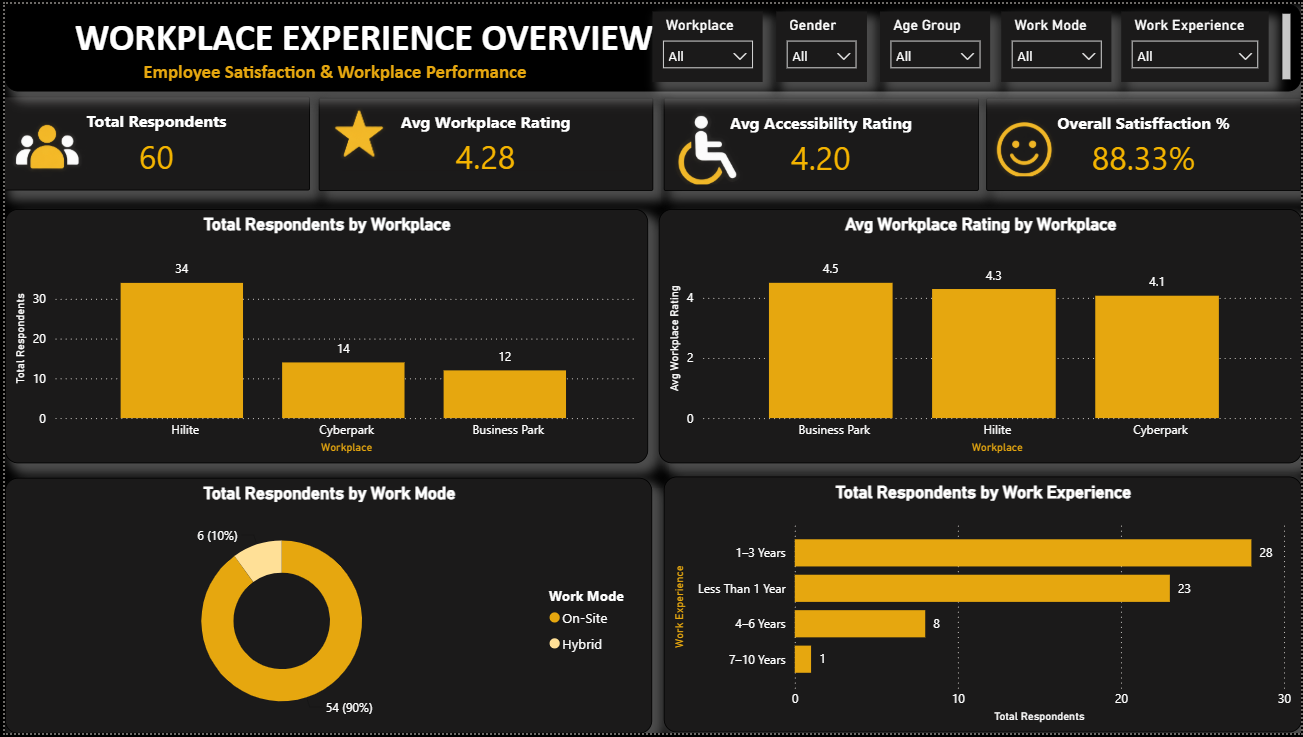

The page's visual inventory and layout, read from the dashboard file:
{"tool":"powerbi","page":{"name":"Workplace Overiew","canvas":[1280,720],"ordinal":0},"visuals":[{"type":"cardVisual","fields":{"Data":["Raw Data.Total Respondents"]},"box":[-1.2,91.7,302,92.9],"z":0},{"type":"cardVisual","fields":{"Data":["Raw Data.Avg Workplace Rating"]},"box":[309.4,92.9,330.2,91.7],"z":1000},{"type":"cardVisual","fields":{"Data":["Raw Data.Avg Accessibility Rating"]},"box":[650,92.4,311,92.3],"z":2000},{"type":"cardVisual","fields":{"Data":["Raw Data.Overall Satisffaction %"]},"box":[969.7,92.4,311,92],"z":3000},{"type":"clusteredColumnChart","fields":{"Category":["Raw Data.Workplace"],"Y":["Raw Data.Total Respondents"]},"box":[0,203,635,251.5],"z":4000},{"type":"clusteredColumnChart","fields":{"Category":["Raw Data.Workplace"],"Y":["Raw Data.Avg Workplace Rating"]},"box":[645.5,203,634.8,251.5],"z":5000},{"type":"donutChart","fields":{"Category":["Raw Data.Work Mode"],"Y":["Raw Data.Total Respondents"]},"box":[0,468.2,639.4,253],"z":6000},{"type":"barChart","fields":{"Category":["Raw Data.Work Experience"],"Y":["Raw Data.Total Respondents"]},"box":[650,466.7,630,253],"z":7000},{"type":"textbox","box":[0,0,1280,86.3],"z":8000},{"type":"slicer","fields":{"Values":["Raw Data.Workplace"]},"box":[639.4,7.6,109.1,69.7],"z":9000},{"type":"slicer","fields":{"Values":["Raw Data.Gender"]},"box":[762.1,7.6,89.4,69.7],"z":10000},{"type":"slicer","fields":{"Values":["Raw Data.Age Group"]},"box":[863.6,7.6,109.1,69.7],"z":11000},{"type":"slicer","fields":{"Values":["Raw Data.Work Mode"]},"box":[983.3,7.6,109.1,69.7],"z":12000},{"type":"slicer","fields":{"Values":["Raw Data.Work Experience"]},"box":[1103,7.6,145.5,69.7],"z":13000},{"type":"image","box":[0,92.9,90.5,90.5],"z":14000},{"type":"image","box":[309.6,93.6,89.3,60.5],"z":15000},{"type":"image","box":[650.5,92.9,89.3,91.7],"z":16000},{"type":"image","box":[969.7,92.9,81.9,90.5],"z":17000}]}

Visuals, with their boxes in screenshot pixels (x1, y1, x2, y2), scaled from the page's 1280x720 canvas onto the 1303x737 screenshot:
cardVisual - Raw Data.Total Respondents: bbox=[0, 94, 306, 189]
cardVisual - Raw Data.Avg Workplace Rating: bbox=[315, 95, 651, 189]
cardVisual - Raw Data.Avg Accessibility Rating: bbox=[662, 95, 978, 189]
cardVisual - Raw Data.Overall Satisffaction %: bbox=[987, 95, 1302, 189]
clusteredColumnChart - Raw Data.Workplace x Raw Data.Total Respondents: bbox=[0, 208, 646, 465]
clusteredColumnChart - Raw Data.Workplace x Raw Data.Avg Workplace Rating: bbox=[657, 208, 1302, 465]
donutChart - Raw Data.Work Mode x Raw Data.Total Respondents: bbox=[0, 479, 651, 736]
barChart - Raw Data.Work Experience x Raw Data.Total Respondents: bbox=[662, 478, 1302, 736]
textbox: bbox=[0, 0, 1302, 88]
slicer - Raw Data.Workplace: bbox=[651, 8, 762, 79]
slicer - Raw Data.Gender: bbox=[776, 8, 867, 79]
slicer - Raw Data.Age Group: bbox=[879, 8, 990, 79]
slicer - Raw Data.Work Mode: bbox=[1001, 8, 1112, 79]
slicer - Raw Data.Work Experience: bbox=[1123, 8, 1271, 79]
image: bbox=[0, 95, 92, 188]
image: bbox=[315, 96, 406, 158]
image: bbox=[662, 95, 753, 189]
image: bbox=[987, 95, 1070, 188]
